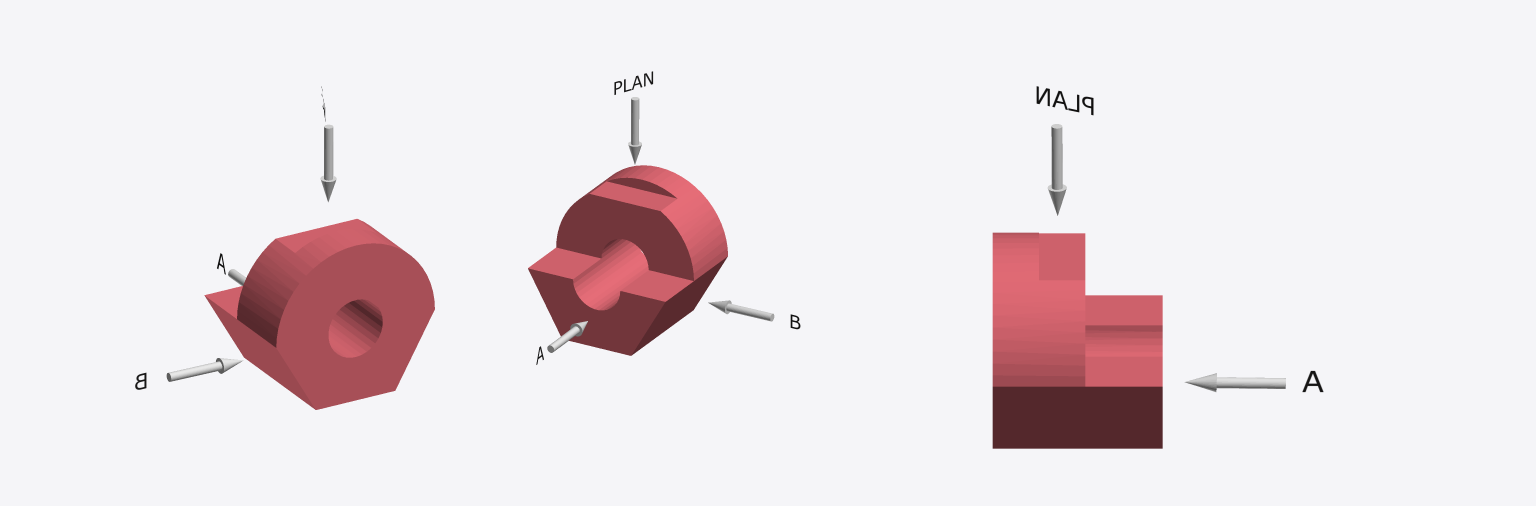
The model's file is tut3a(final).gltf.
The picture shows the model from 3 angles, left to right: view 1: azimuth 30°, elevation 25°; view 2: azimuth 150°, elevation 25°; view 3: azimuth 270°, elevation 25°; orthographic projection. The views are drawn at different scales.
Visible parts, largest first — view 1: Part1, Cylinder.001, Cone; view 2: Part1, Cylinder.001, Cone; view 3: Part1, Cylinder.002, Cone.
Part boxes in pixels (x1=…): Part1: x1=204, y1=219, x2=434, y2=409; Cylinder.001: x1=166, y1=358, x2=243, y2=381; Cone: x1=320, y1=124, x2=336, y2=201; Part1: x1=528, y1=165, x2=727, y2=355; Cylinder.001: x1=708, y1=300, x2=774, y2=321; Cone: x1=628, y1=97, x2=641, y2=164; Part1: x1=992, y1=232, x2=1162, y2=448; Cylinder.002: x1=1184, y1=373, x2=1285, y2=391; Cone: x1=1047, y1=124, x2=1066, y2=215.
Size of the model in its own units: 17.29 by 16.03 by 19.01.
Materials: 4 (3 with a texture image).
